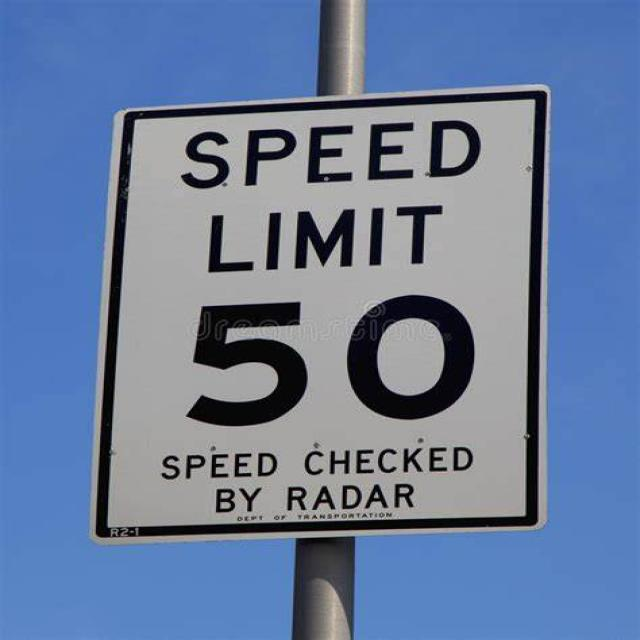speedLimit50: (117, 103, 541, 526)
